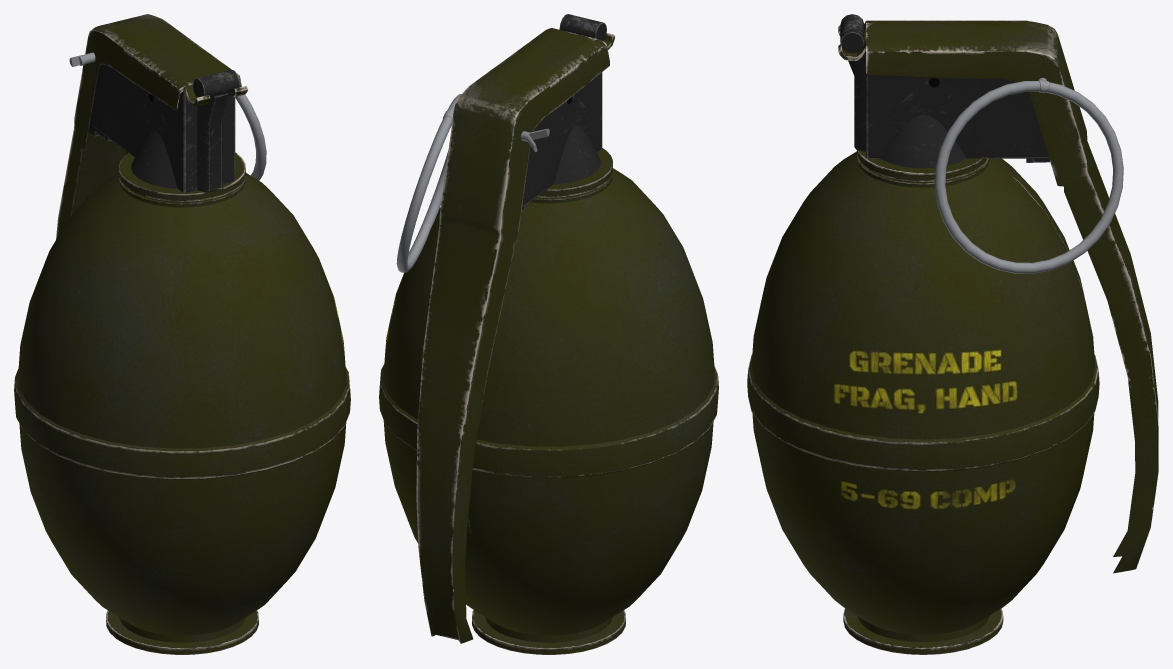
The model's file is granata_qol.glb.
The picture shows the model from 3 angles, left to right: view 1: azimuth 30°, elevation 25°; view 2: azimuth 150°, elevation 25°; view 3: azimuth 270°, elevation 25°; orthographic projection. The views are drawn at different scales.
Visible parts, largest first — view 1: Grenade, Pin; view 2: Grenade, Pin; view 3: Grenade, Pin.
Boxes of the visible parts, x1,y1,x2,y2 form: Grenade: (14, 14, 350, 654); Pin: (69, 52, 266, 180); Grenade: (379, 14, 718, 654); Pin: (396, 94, 549, 272); Grenade: (747, 14, 1158, 654); Pin: (934, 78, 1123, 273).
Size of the model in its own units: 0.0544 by 0.1018 by 0.0635.
Materials: 1 (1 with a texture image).
